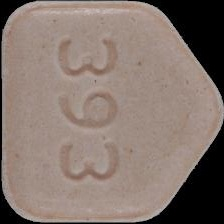57664-393: (0, 0, 224, 224)
